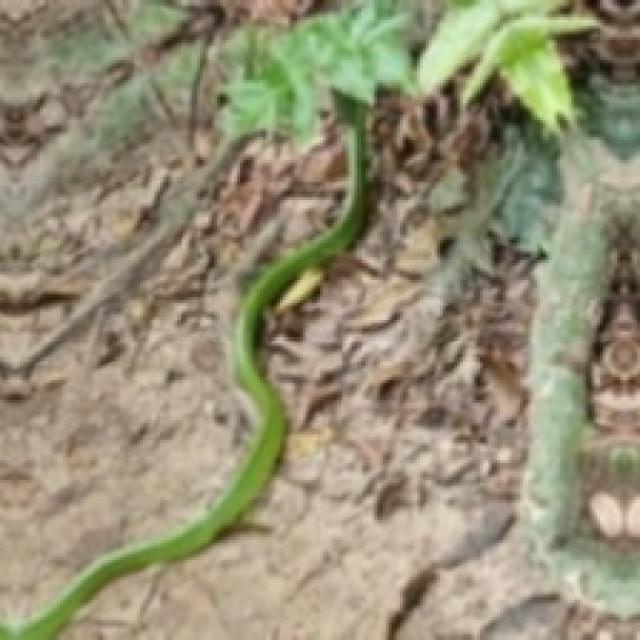red-tailed green ratsnake: (0, 91, 366, 637)
